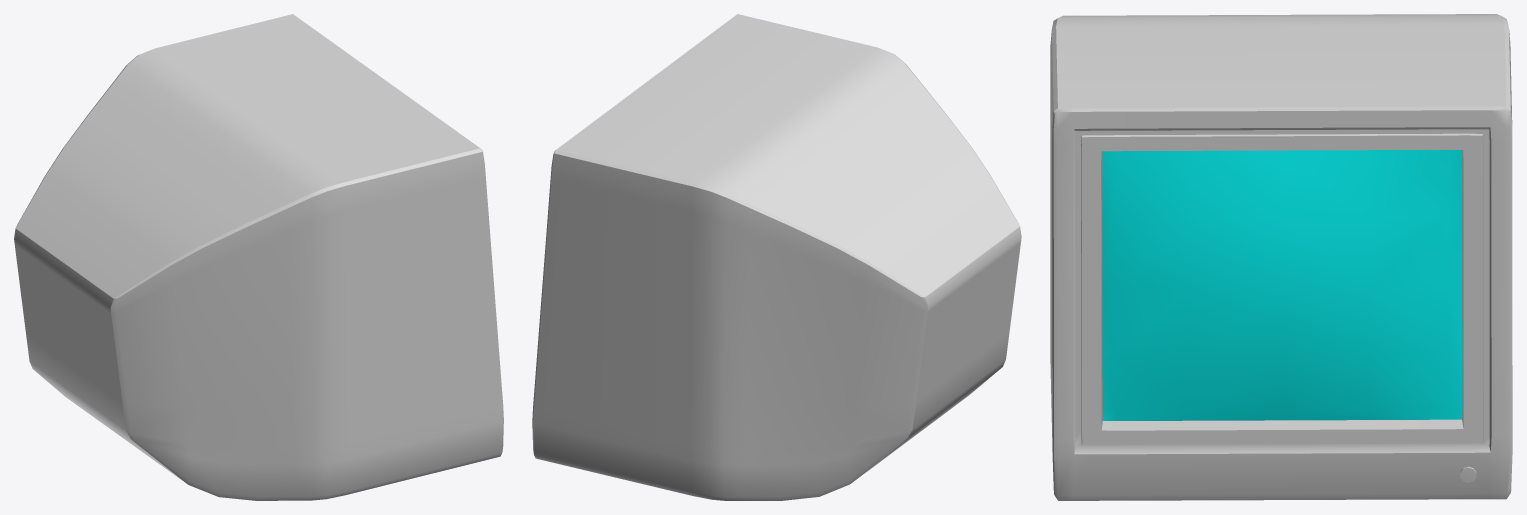
The model's file is monitor_v2.glb.
3 views of the same model, side by side, from view 1: azimuth 30°, elevation 25°; view 2: azimuth 150°, elevation 25°; view 3: azimuth 270°, elevation 25° (orthographic). The views are drawn at different scales.
Parts seen in each view (by area): view 1: Monitor-Mat; view 2: Monitor-Mat; view 3: Monitor-Mat, Monitor-Mat.1.
Boxes of the visible parts, x1,y1,x2,y2 form: Monitor-Mat: (14,14,503,500); Monitor-Mat: (532,14,1021,500); Monitor-Mat: (1050,14,1512,500); Monitor-Mat.1: (1102,150,1462,420).
Bounding box in the file's own units: 1.21 × 1.03 × 1.13.
